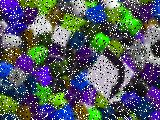Right: (85, 46, 135, 104)
